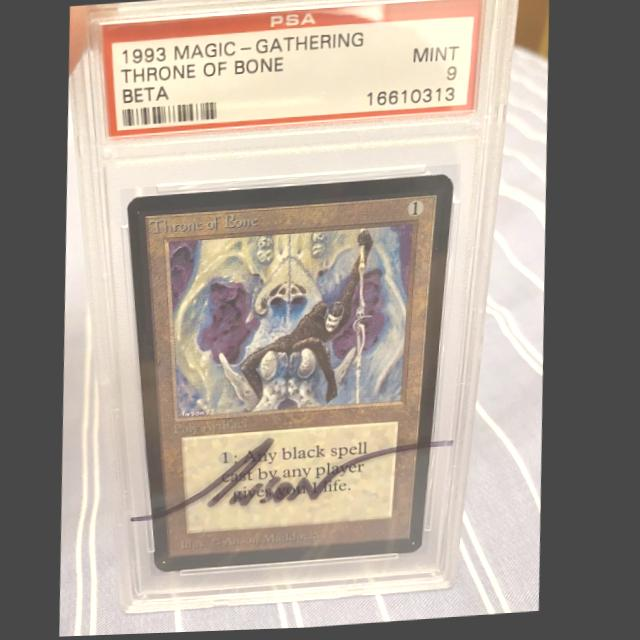card: (127, 177, 456, 575)
psa_label_old: (97, 0, 483, 140)
psa_slab: (68, 0, 519, 616)
